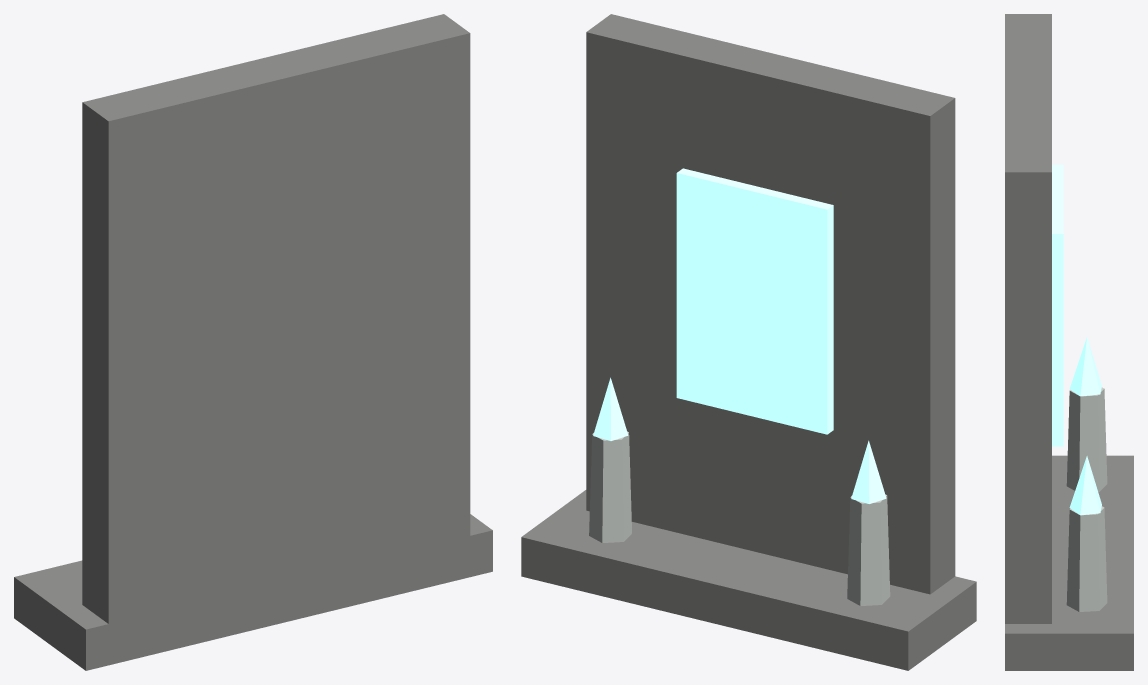
File: crypt_plaque.glb
3 views of the same model, side by side, from view 1: azimuth 30°, elevation 25°; view 2: azimuth 150°, elevation 25°; view 3: azimuth 270°, elevation 25° (orthographic). The views are drawn at different scales.
Parts seen in each view (by area): view 1: crypt_plaque; view 2: crypt_plaque; view 3: crypt_plaque.
Boxes of the visible parts, <box> form: crypt_plaque: <box>14,14,492,670</box>; crypt_plaque: <box>521,14,976,670</box>; crypt_plaque: <box>1005,14,1133,670</box>.
Size of the model in its own units: 0.72 by 0.92 by 0.22.
